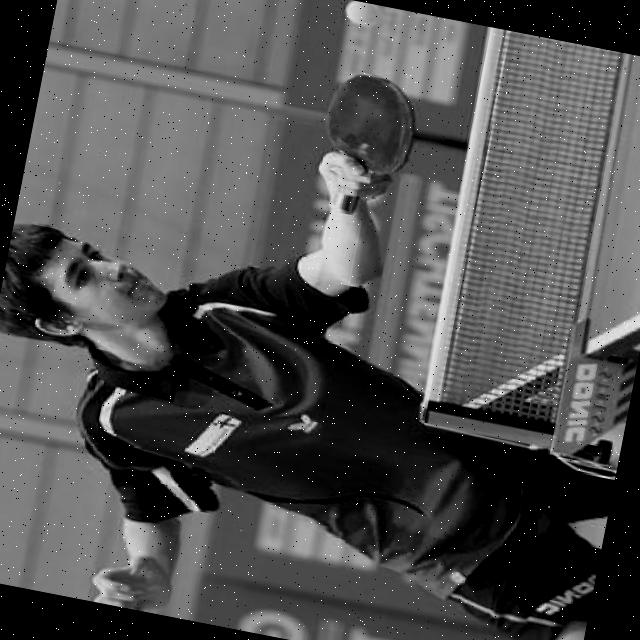ping-pong-ball: (339, 0, 382, 29)
